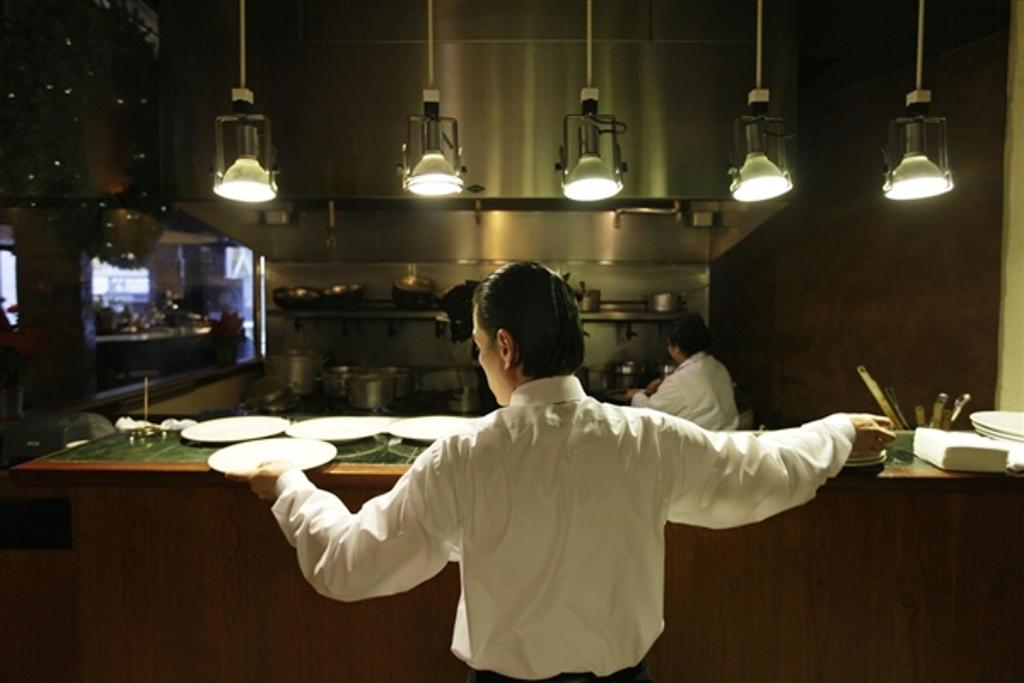face: (470, 300, 528, 400)
